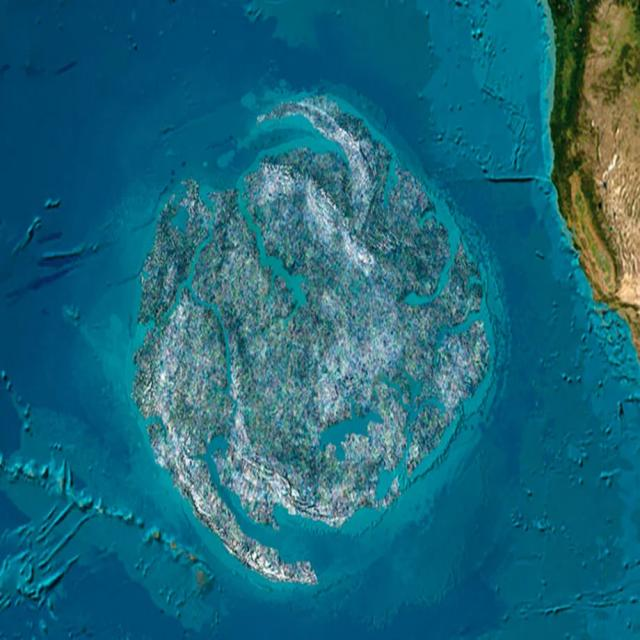plastic watse: (133, 97, 491, 581)
